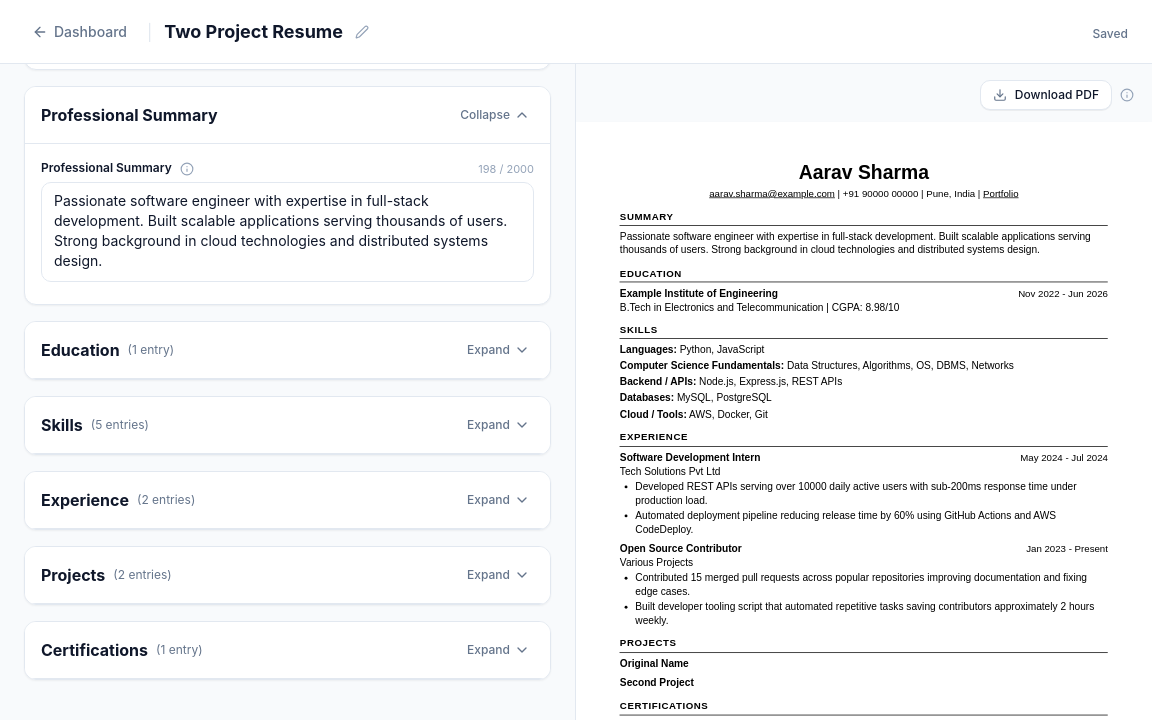
PreviewPane — two-project fixture › 2c: editing project 1 name after project 2 exists keeps project 2 in preview
(page scrolled)
Check: the heading "Two Project Resume" is shown, box [164,18,343,46]
Check: the text "Original Name" is shown, box [620,658,689,669]
# Expand projects card
Click the 4th button "Expand" at (499, 575), box [463,563,534,587]
(page scrolled)
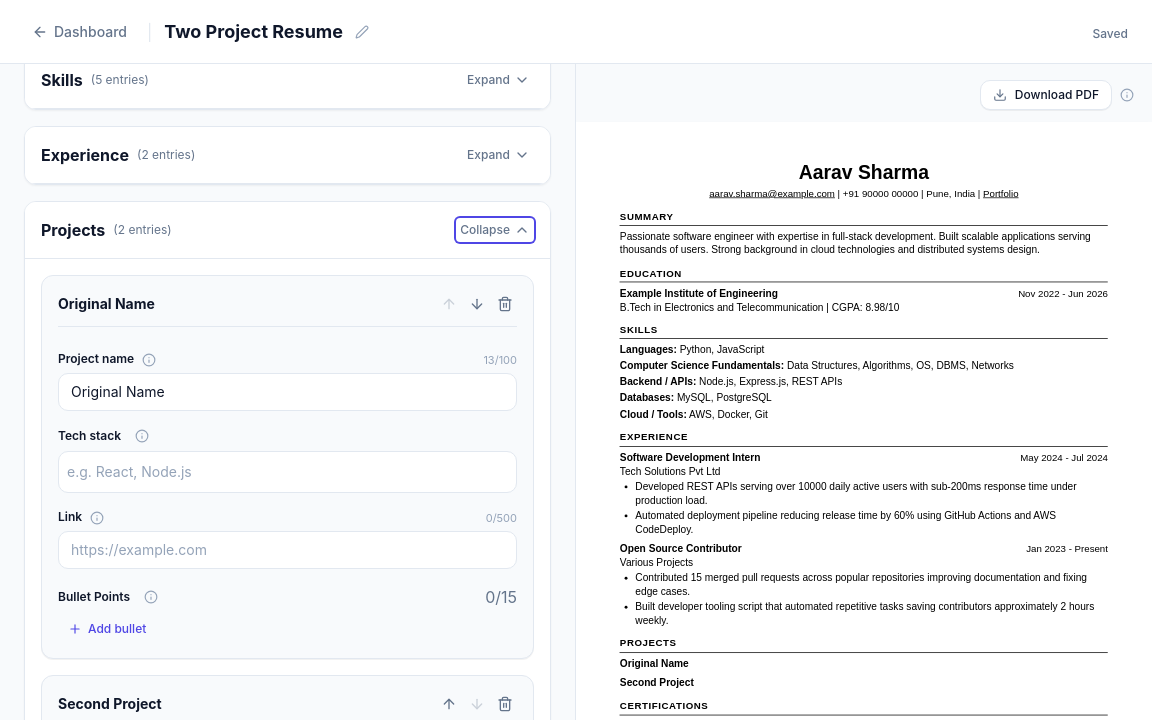
# Edit project 1 name
Replace the text in the field showing "Original Name" with "Renamed Project" at (288, 392), box [58,373,517,411]
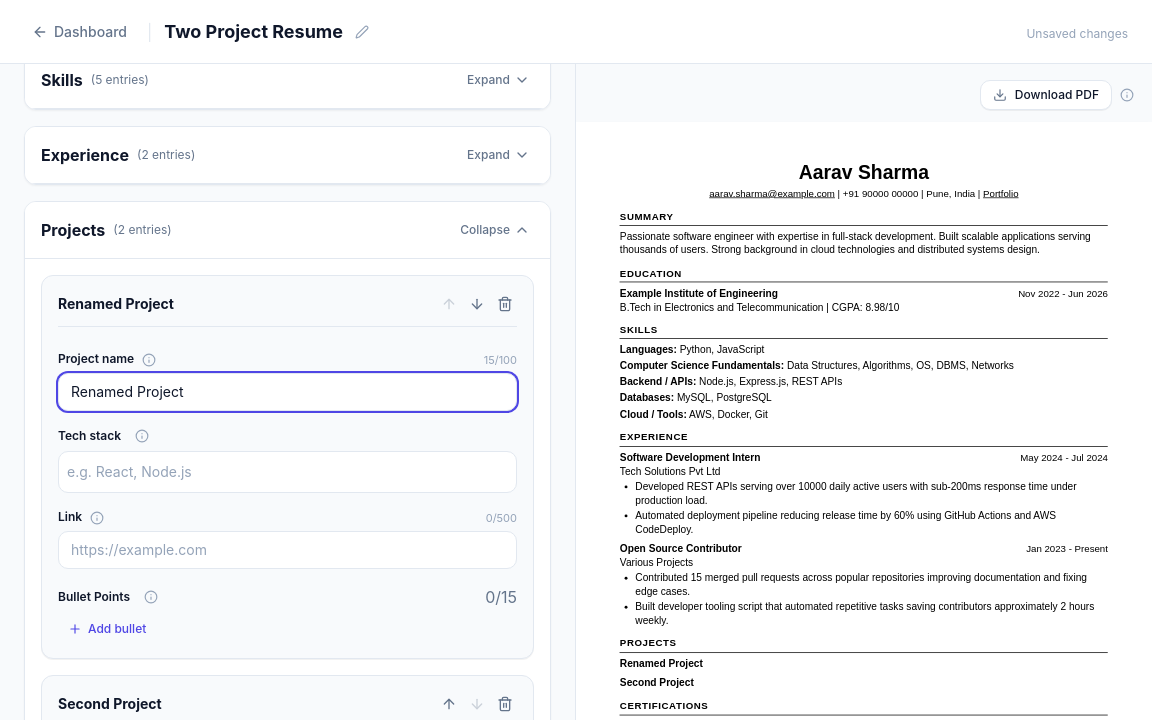
Check: the text "Second Project" below "Various Projects" is shown, box [620,677,694,689]
Check: the text "Renamed Project" below "Various Projects" is shown, box [620,658,703,669]
